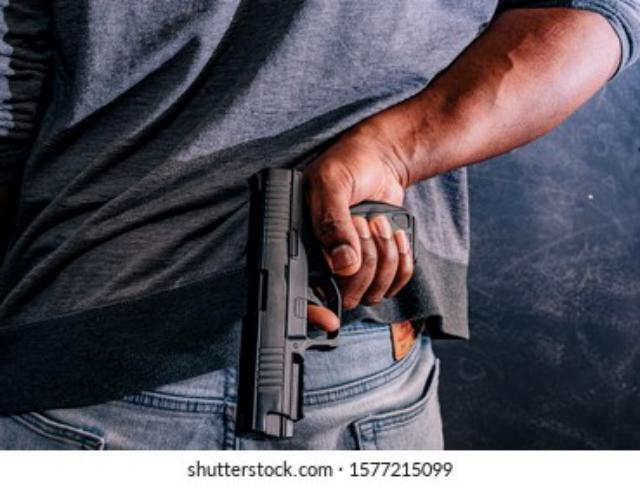pistol: (240, 167, 424, 437)
